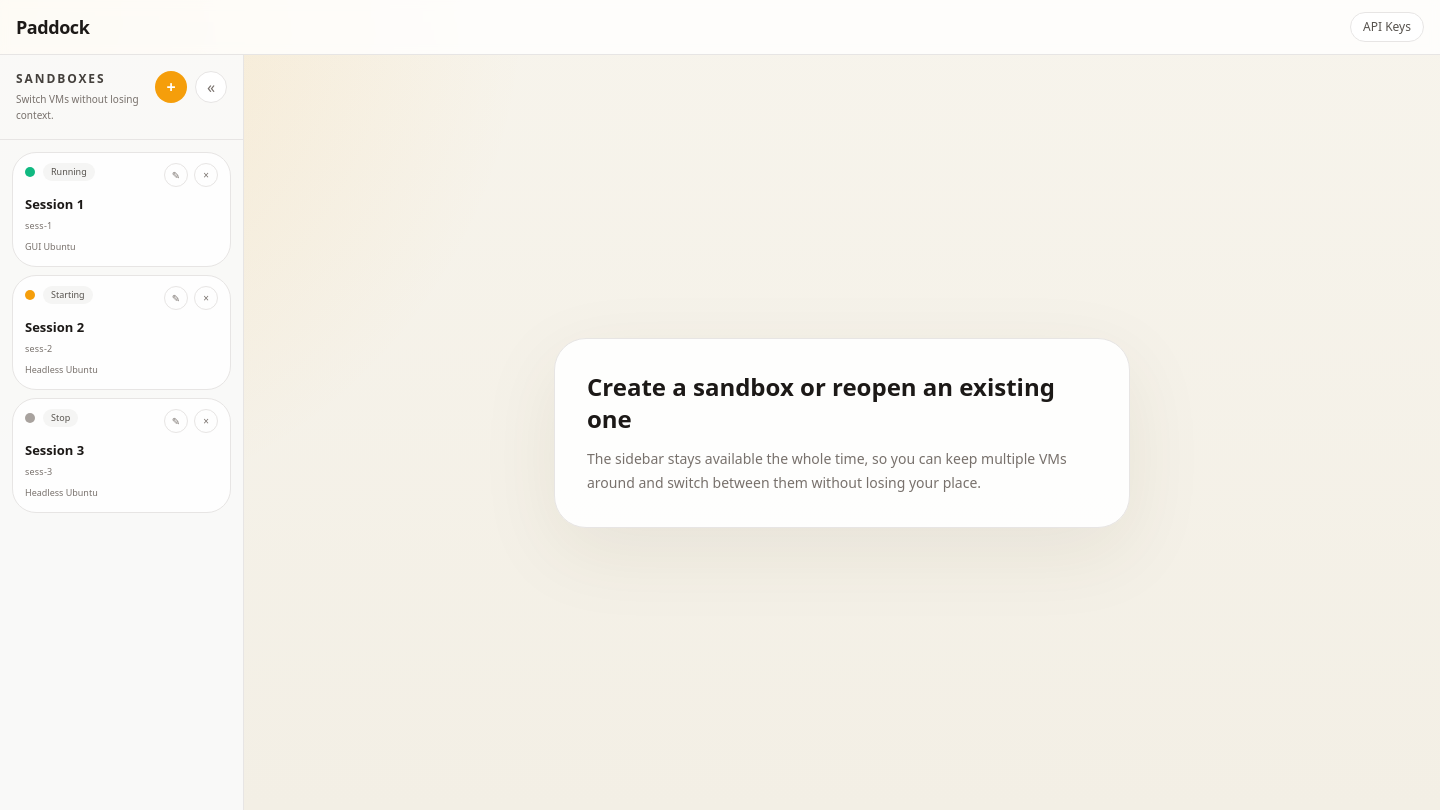
Test case: App browser journey › supports collapsing the sidebar and keeps stopped sessions available to reopen
Click the button named "Collapse sidebar".
click(211, 87)  # box x1=195 y1=71 x2=227 y2=103
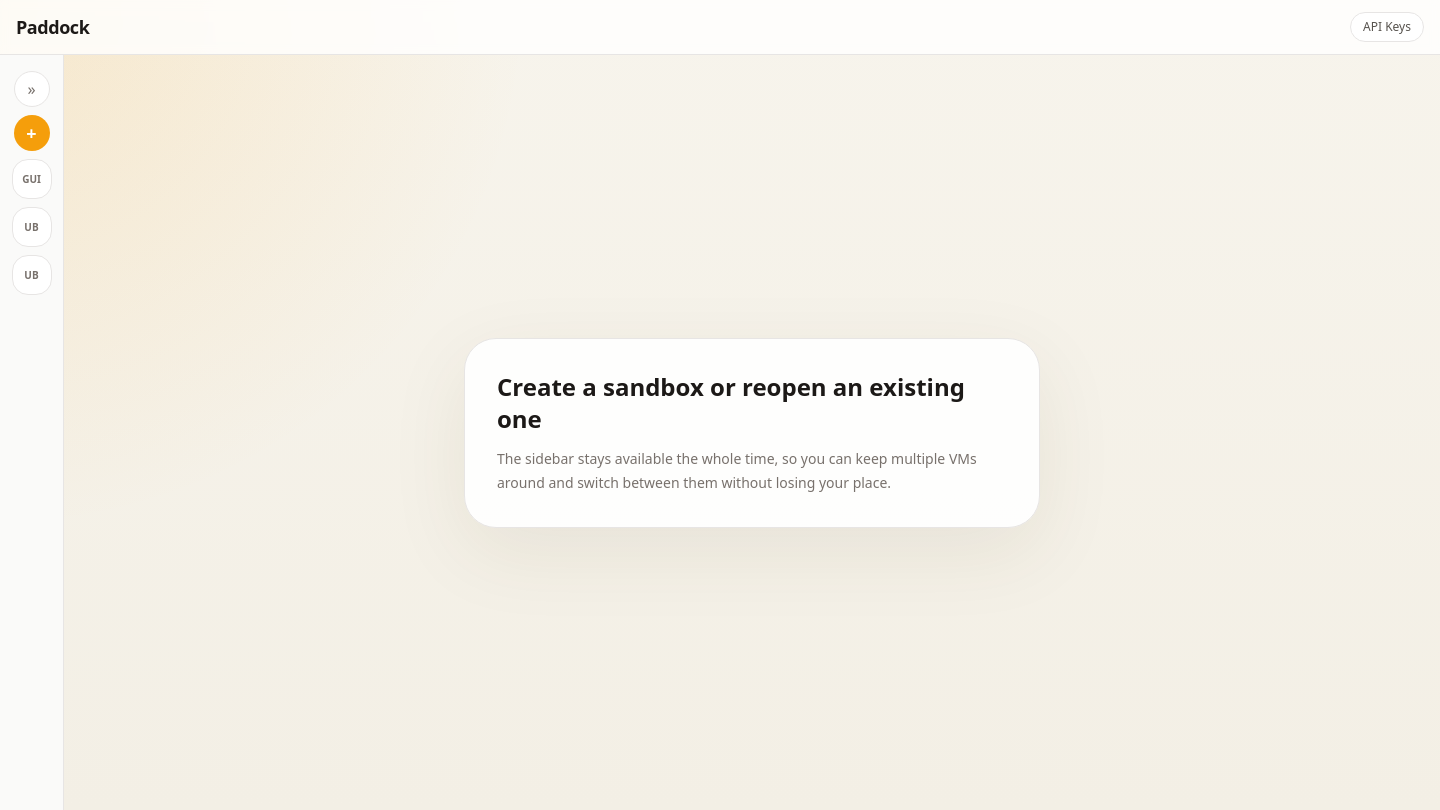
Result: the button named "Expand sidebar" is shown
Click the button named "Expand sidebar".
click(32, 89)  # box x1=14 y1=71 x2=50 y2=107
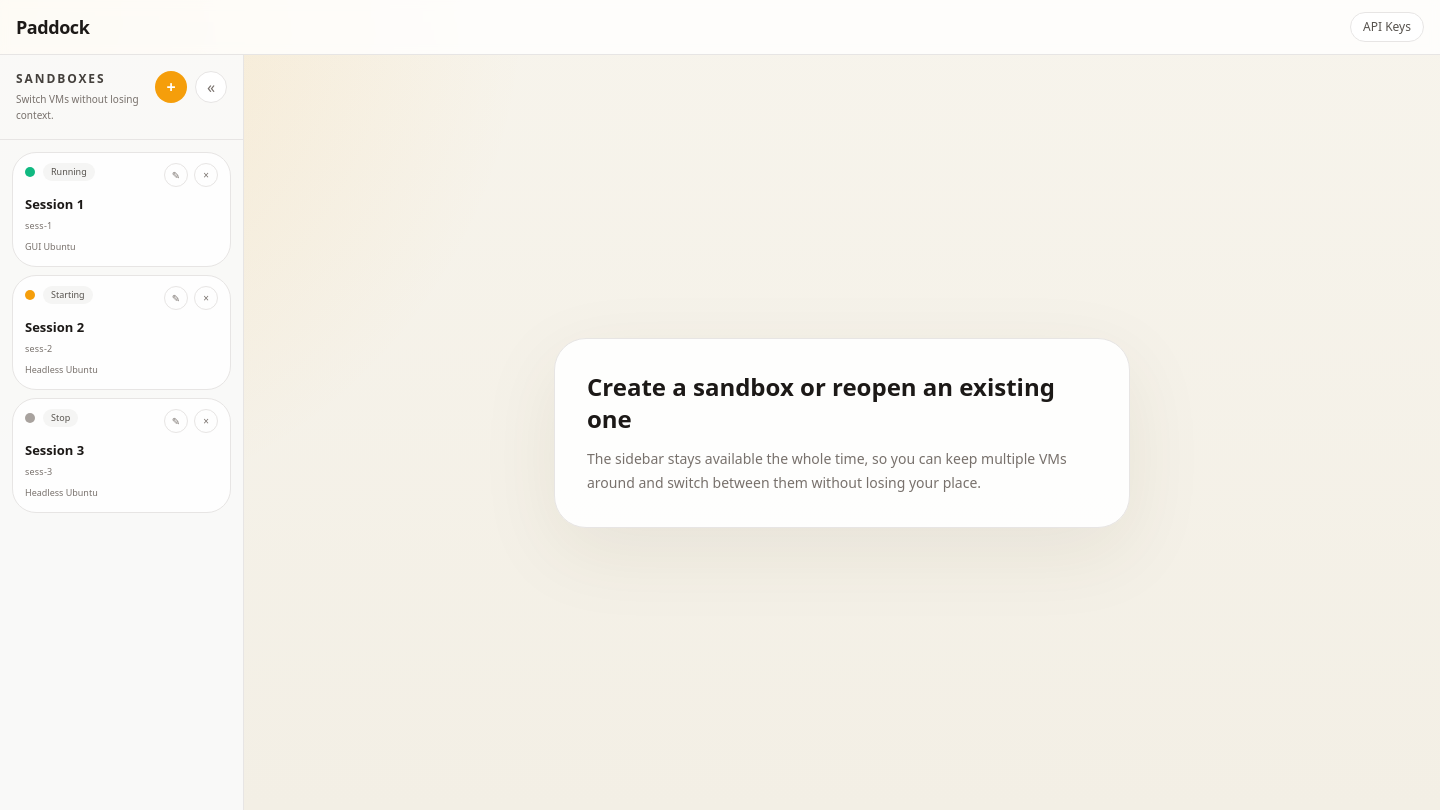
Result: the button "Session 3 sess-3 Headless Ubuntu" is shown at x1=25 y1=433 x2=98 y2=500
